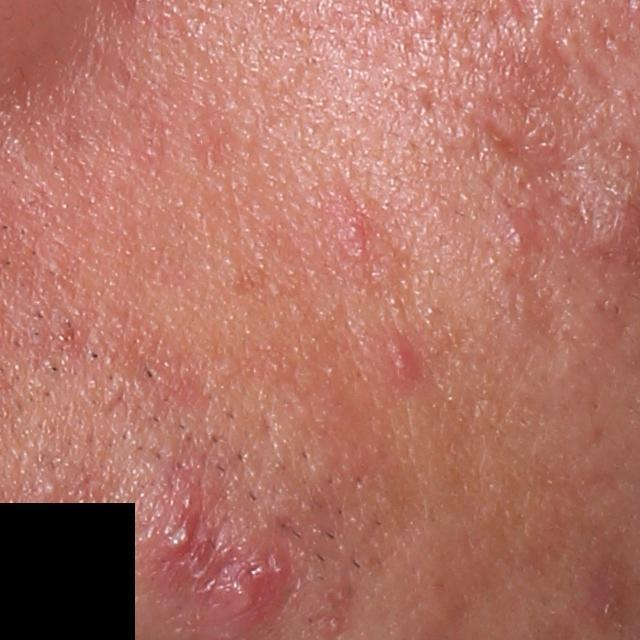atrophic_scar: (480, 114, 535, 169)
comedo: (41, 479, 64, 497)
papule: (203, 547, 289, 621), (385, 340, 416, 384)
